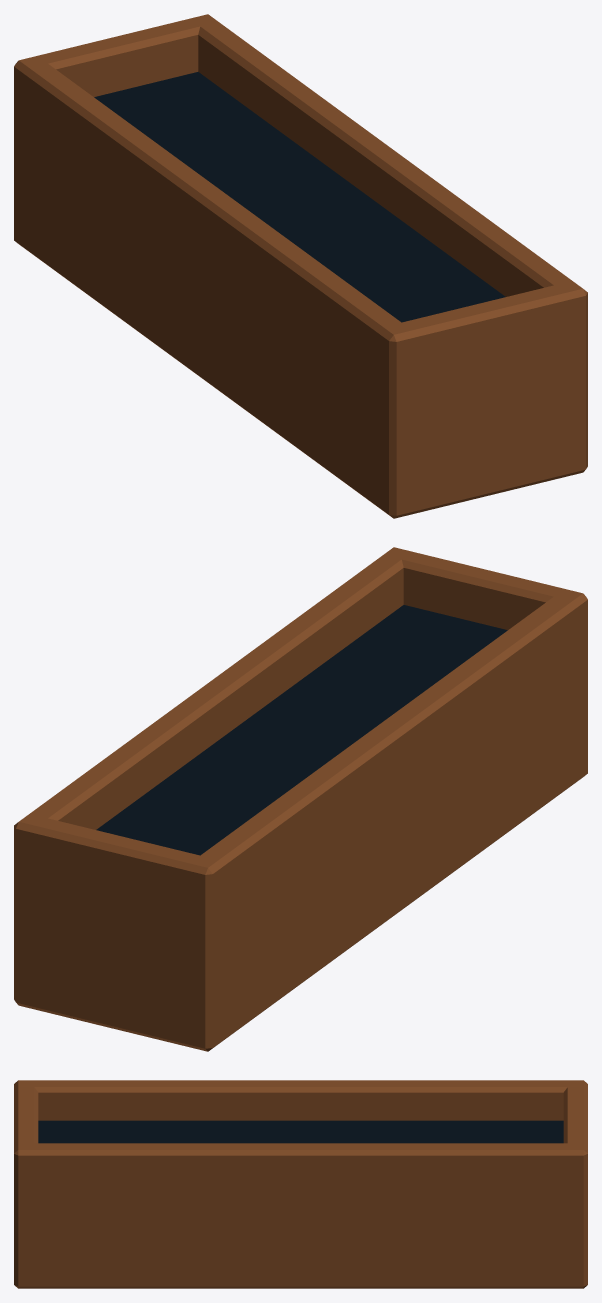
File: ww_trough_a.glb
3 renders of one model, top to bottom at view 1: azimuth 30°, elevation 25°; view 2: azimuth 150°, elevation 25°; view 3: azimuth 270°, elevation 25°, orthographic. The views are drawn at different scales.
Visible parts, largest first — view 1: Trough_A; view 2: Trough_A; view 3: Trough_A.
Part boxes in pixels (bbox=[...]): Trough_A: bbox=[14, 14, 587, 518]; Trough_A: bbox=[14, 547, 587, 1051]; Trough_A: bbox=[14, 1080, 587, 1288].
Size of the model in its own units: 0.4527 by 0.4 by 1.5.
